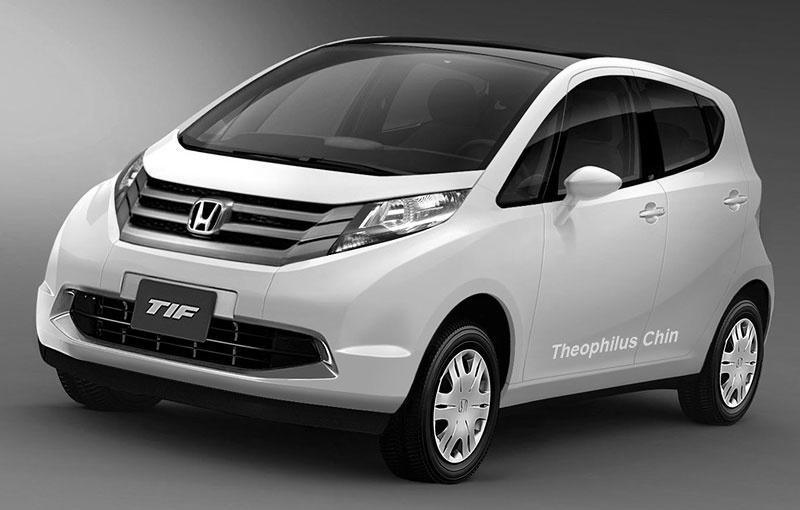Car hood: (114, 122, 482, 208)
Fender - -F-L-: (415, 190, 550, 420)
Fender - -R-L-: (694, 218, 777, 390)
Front bumper: (33, 221, 437, 447)
Headlight - -L-: (322, 180, 473, 262)
Headlight - -R-: (109, 139, 154, 217)
Passenger-s door - -F-L-: (522, 54, 664, 382)
Passenger-s door - -R-L-: (642, 57, 750, 374)
Side bumper - -L-: (490, 347, 718, 412)
Side mirror - -L-: (553, 153, 629, 231)
